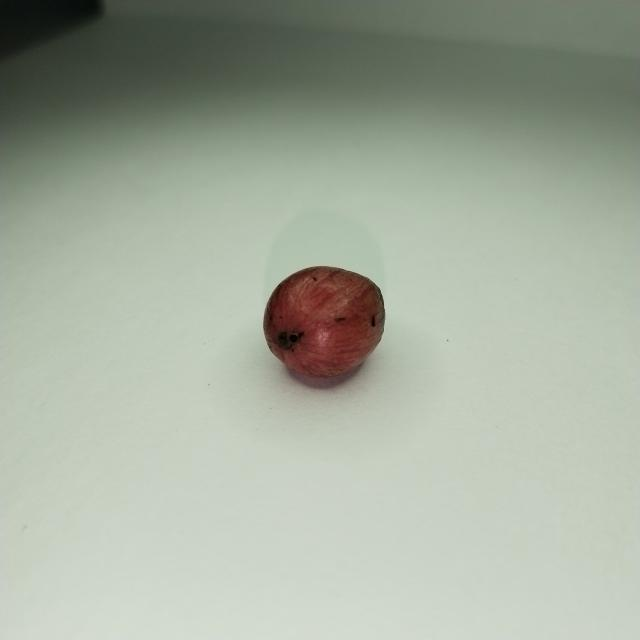Infectado: (262, 267, 387, 389)
